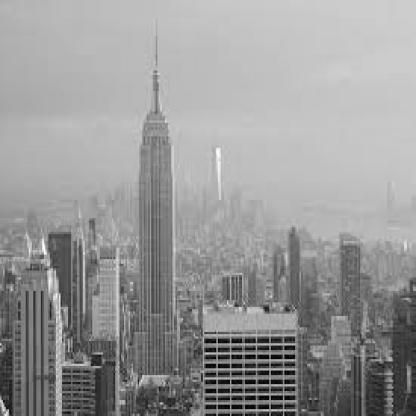Empire-State-building: (134, 7, 184, 372)
